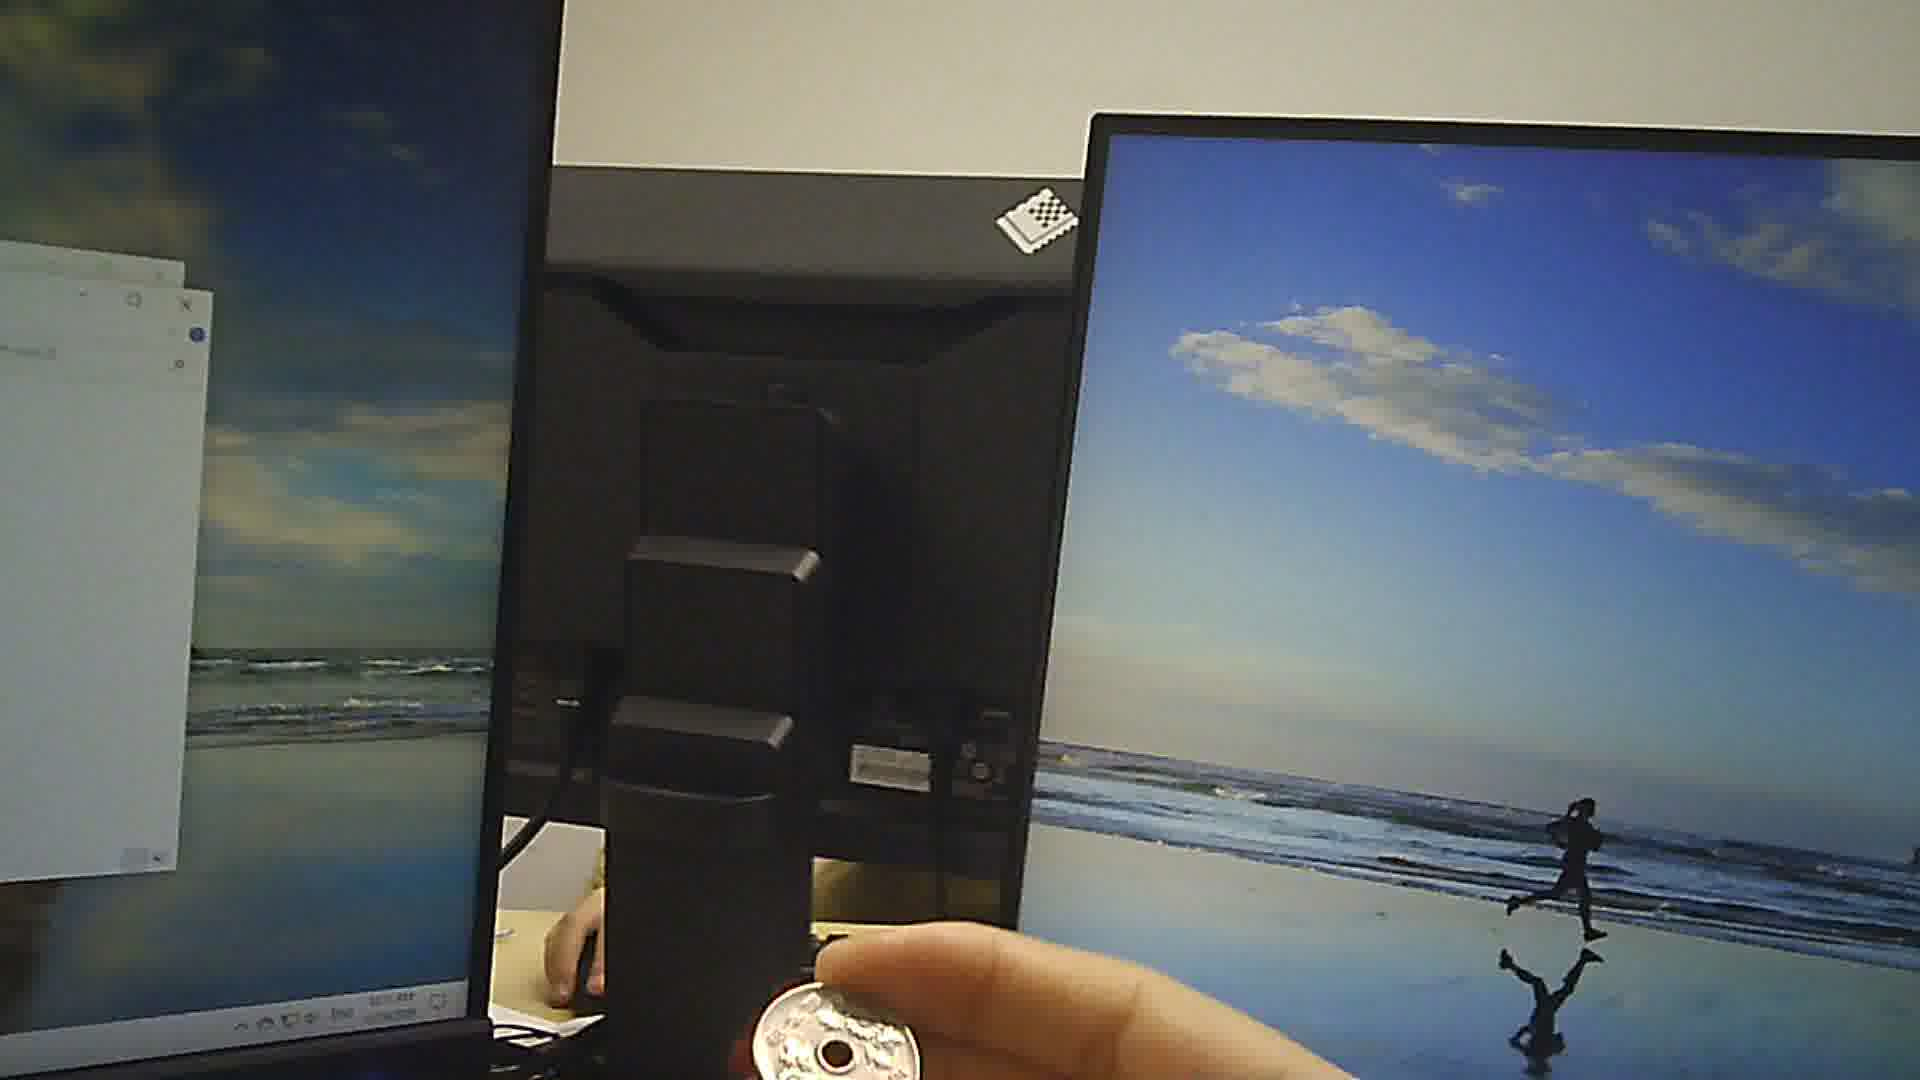50 Yen: (749, 971, 928, 1079)
